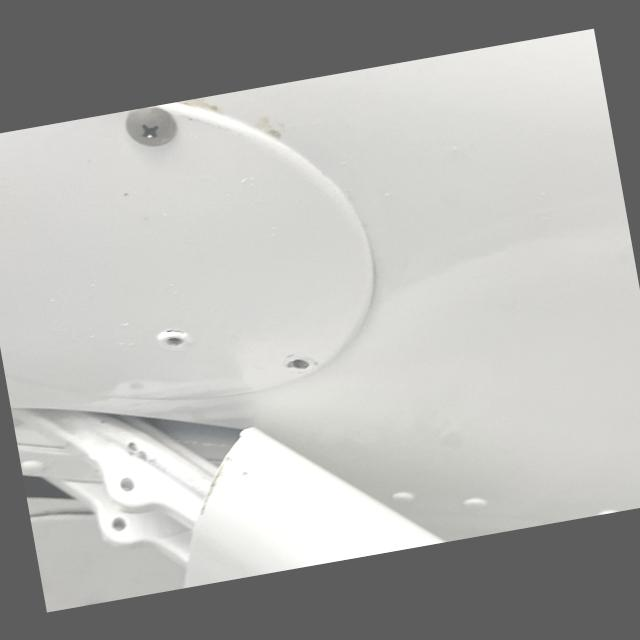Missing Fastener: (276, 348, 320, 378)
